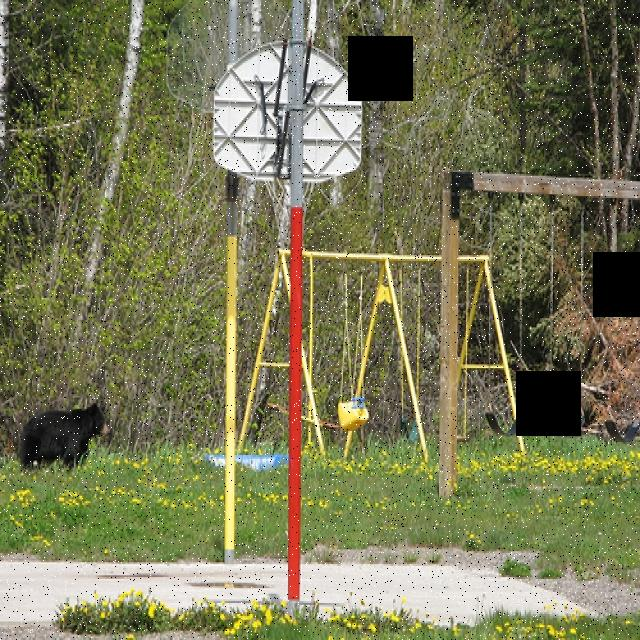Bear: (17, 398, 115, 463)
